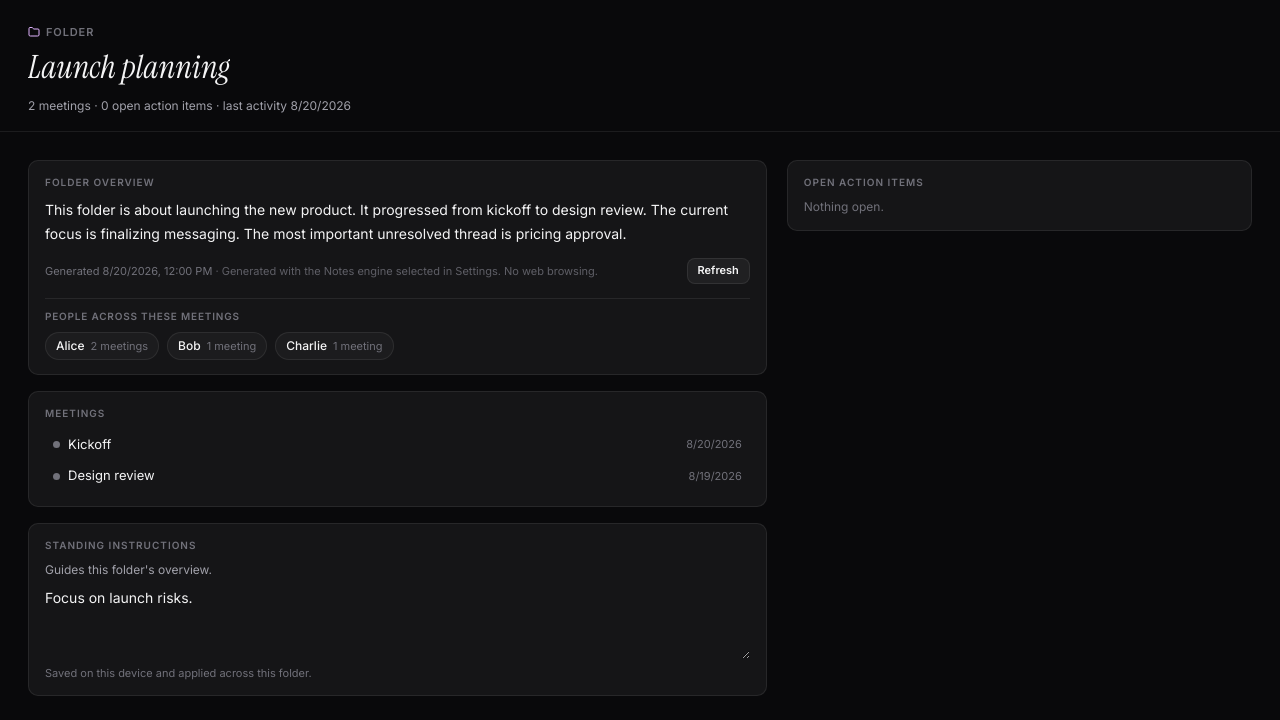
Scenario: FolderView › existing overview retained when refresh fails
Expected: the text "This folder is about launching" is shown, [45,201,728,242]
Click the button with aria-label "Refresh folder overview": (718, 271) [687,258,750,284]
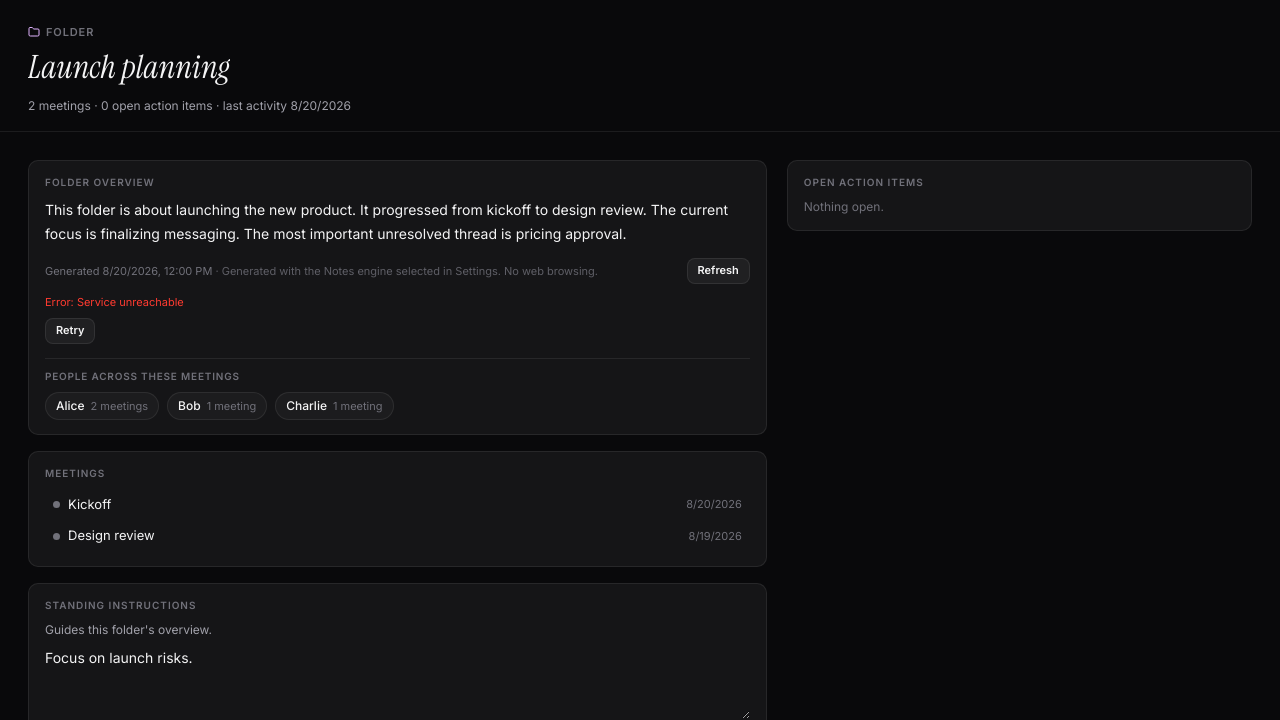
Expected: the text "This folder is about launching" is shown, [45,201,728,242]
Result: the text "Error: Service unreachable" is shown at [45,295,184,309]
Result: the button with aria-label "Retry generating folder overview" is shown at [45,318,95,344]
